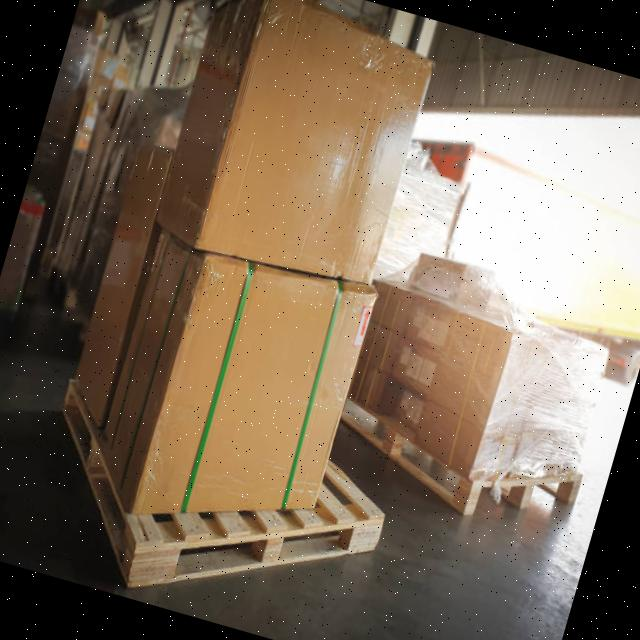Wooden-Pallets: (55, 375, 390, 591), (335, 390, 599, 536)
